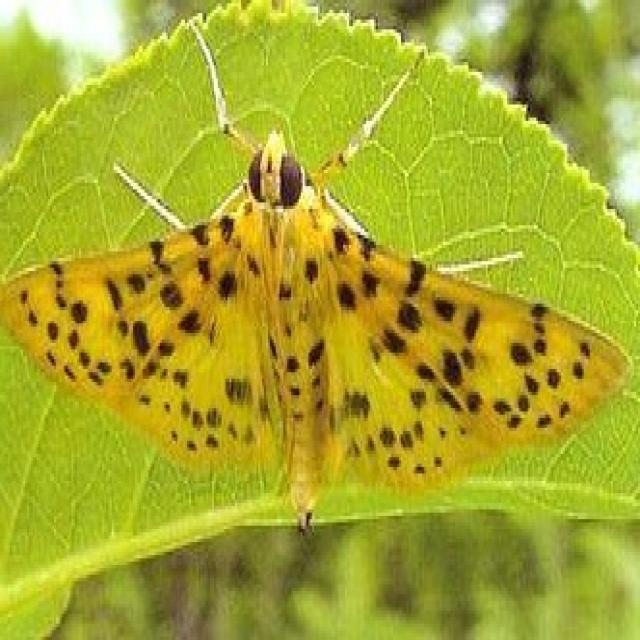peach borer: (1, 127, 637, 528)
